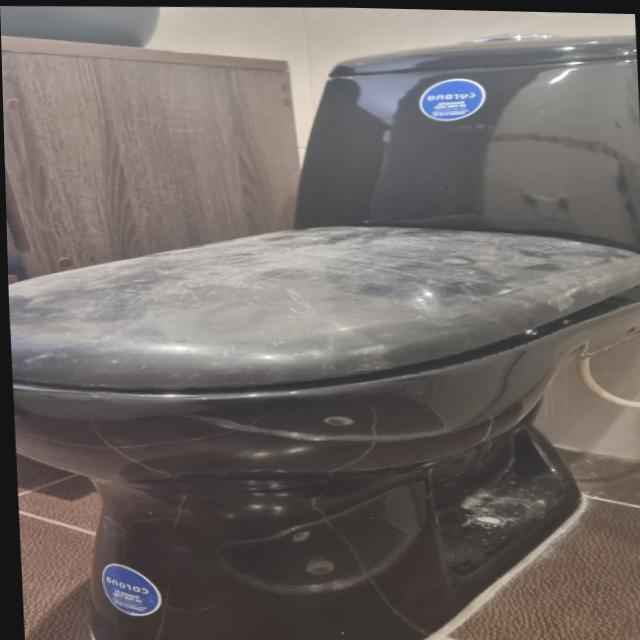toilet: (0, 17, 640, 640)
